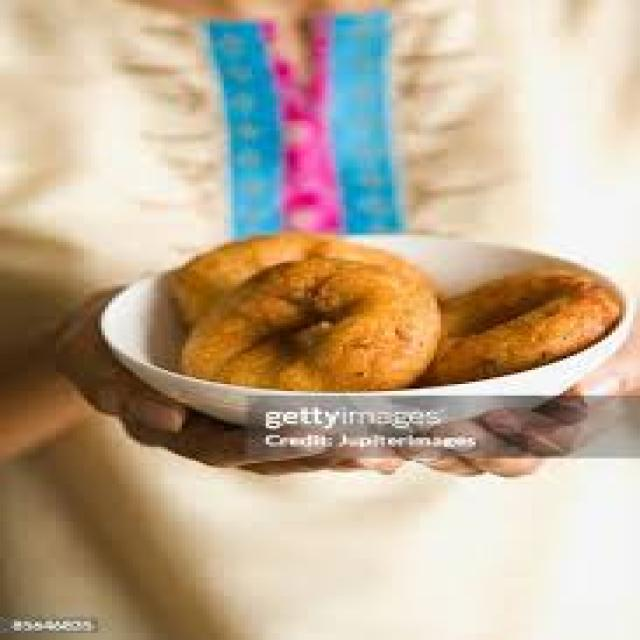MEDU VADA: (164, 229, 439, 391), (439, 267, 618, 370)
